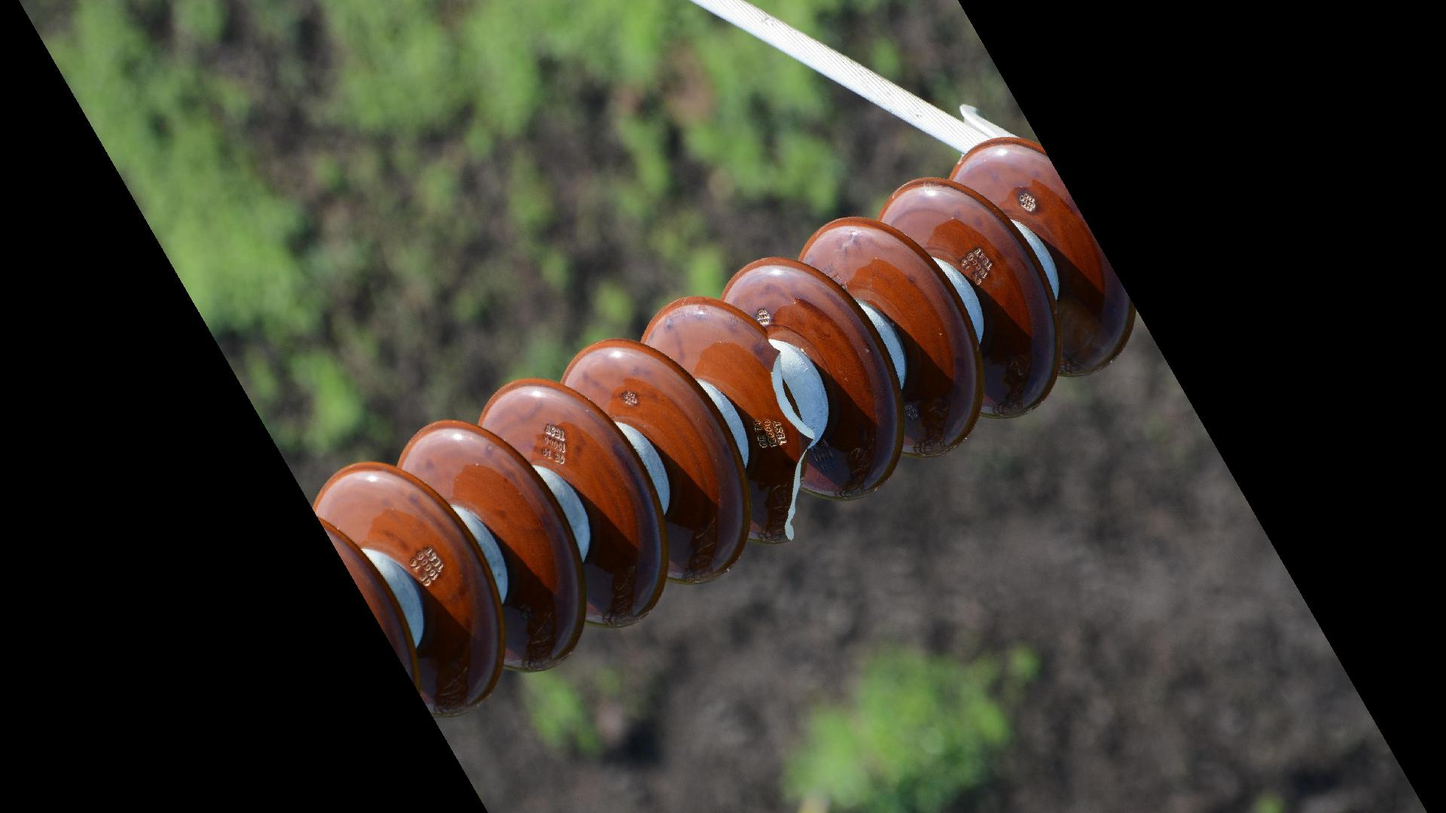insulator: (304, 131, 1142, 724)
insulator_breakage: (753, 320, 819, 550)
